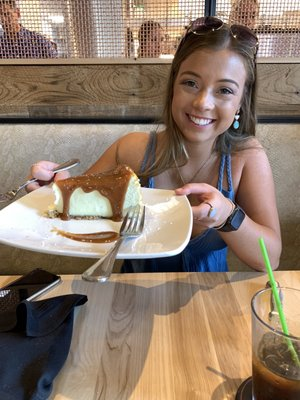burger: (81, 206, 144, 284)
pizza: (250, 285, 300, 400)
